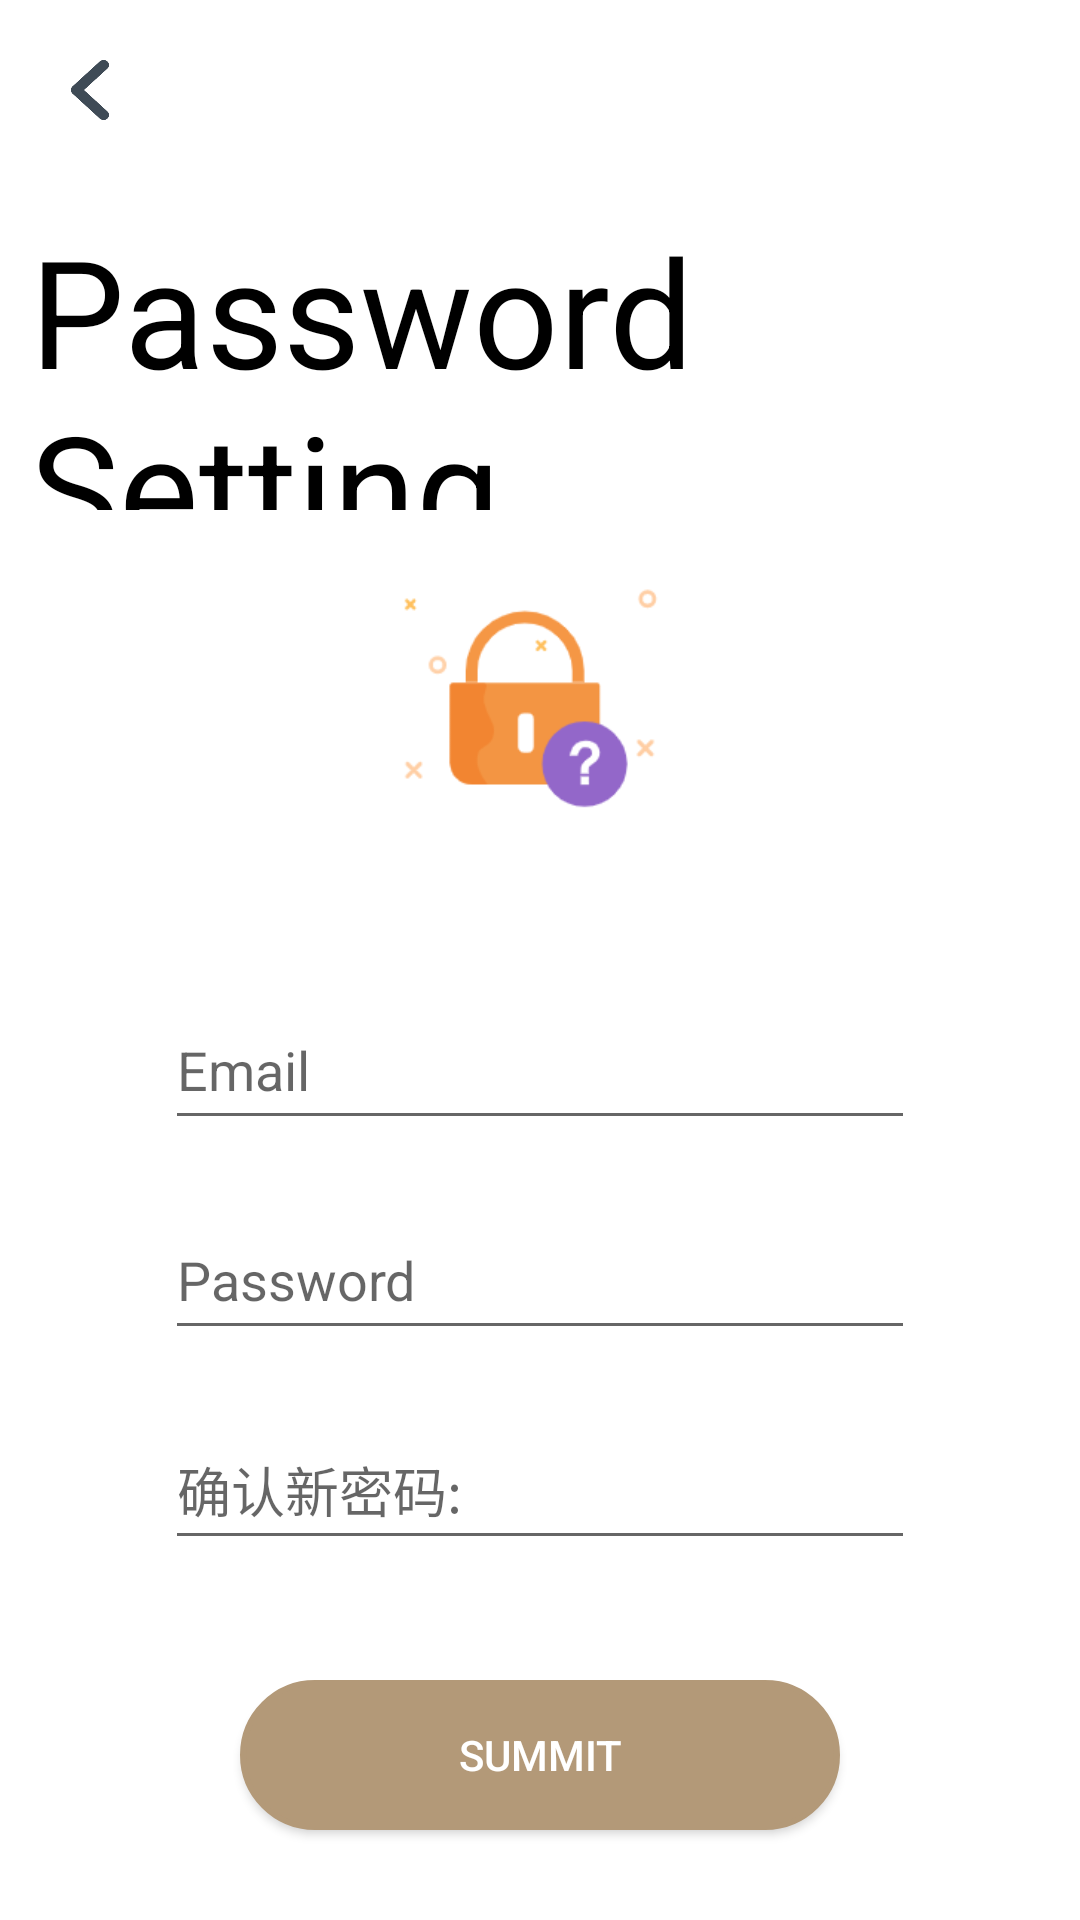

Icon click points for this 1080*1920 phone screenshot, format point (x, y):
back: point (90, 90)
forget photo: point (530, 698)
